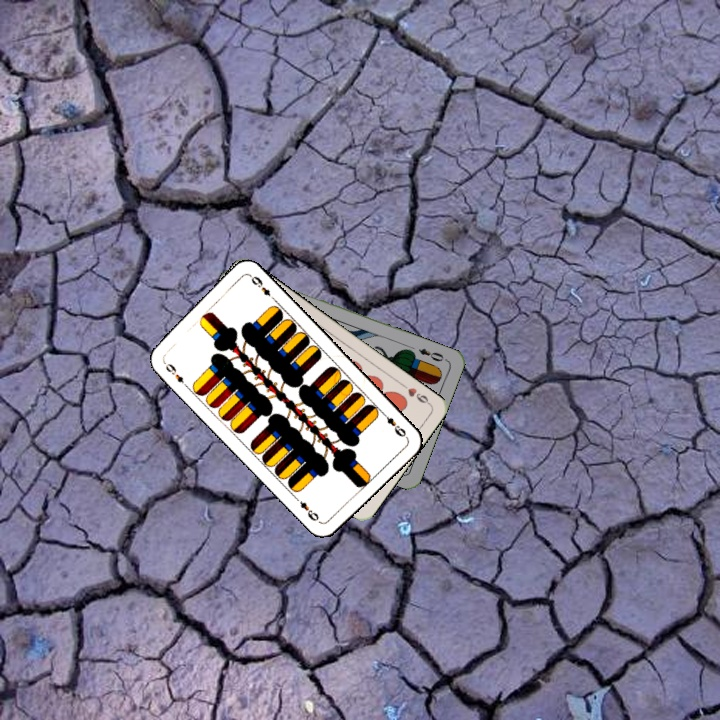E9: (377, 408, 409, 440), (159, 357, 190, 390)
EO: (414, 344, 446, 364)
H9: (397, 379, 433, 407)
